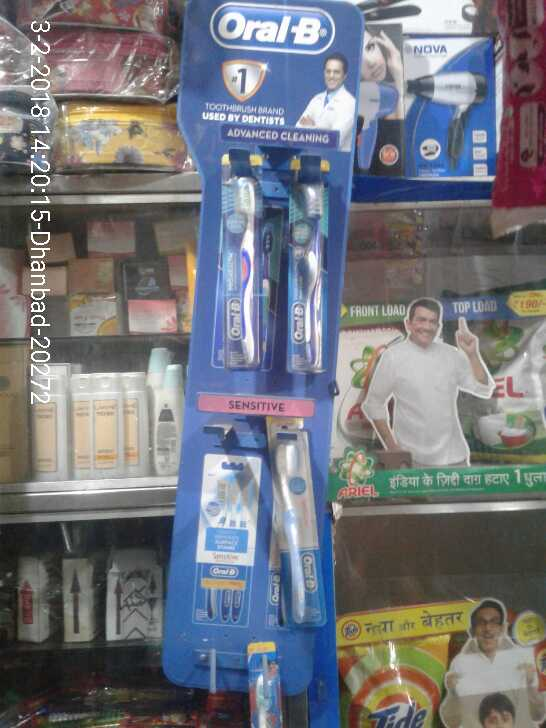home: (330, 614, 528, 728)
pharmacy: (262, 429, 380, 611), (207, 171, 262, 365), (273, 181, 323, 367)
